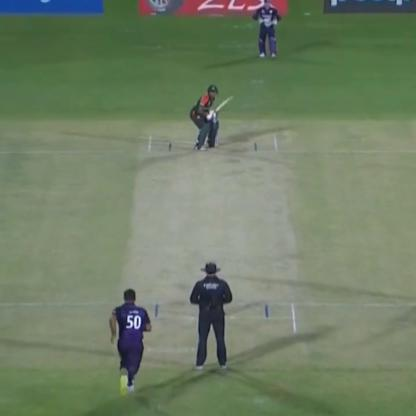bat: (203, 89, 235, 120)
pitch: (130, 125, 298, 341)
